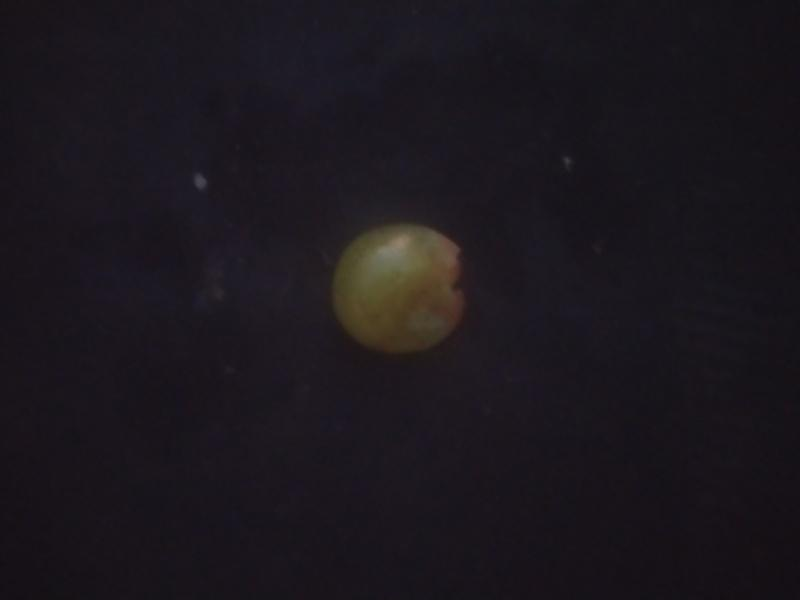Grape Overripe: (328, 216, 471, 358)
